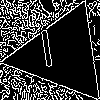I: (37, 29, 59, 76)
